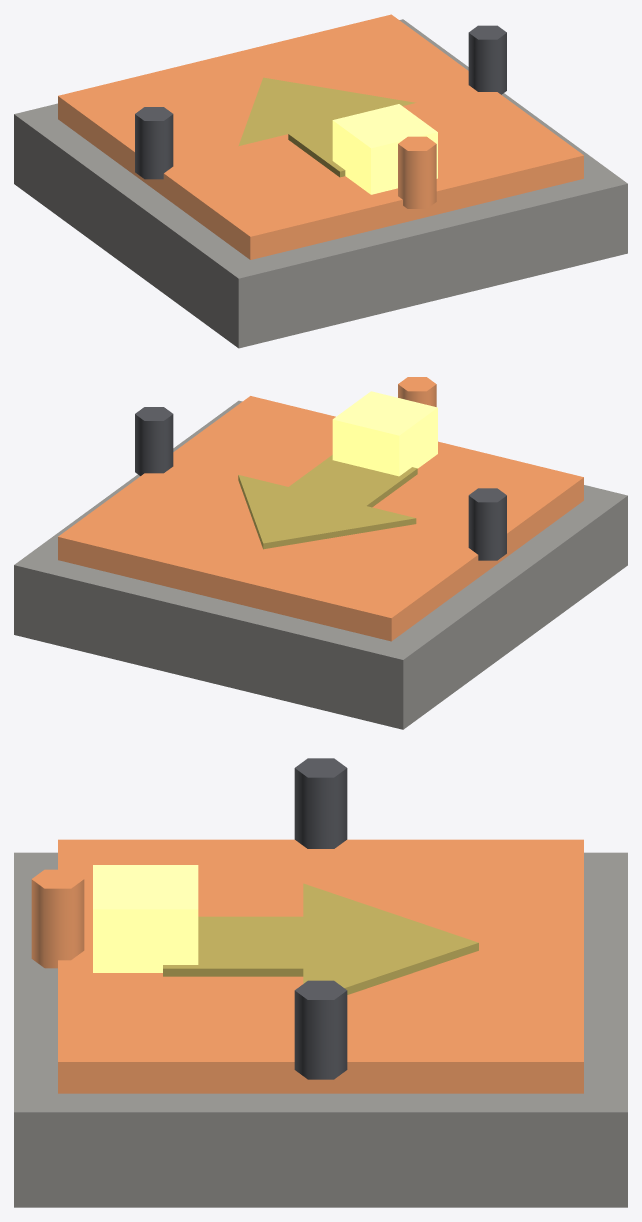
Rendered from build_gate_diode.glb.
3 views of the same model, one above another, from view 1: azimuth 30°, elevation 25°; view 2: azimuth 150°, elevation 25°; view 3: azimuth 270°, elevation 25° (orthographic). The views are drawn at different scales.
Visible parts, largest first — view 1: Baked; view 2: Baked; view 3: Baked.
Boxes of the visible parts, x1,y1,x2,y2 form: Baked: (14,14,627,348); Baked: (14,377,627,729); Baked: (14,758,627,1207).
Size of the model in its own units: 0.7 by 0.25 by 0.7.
